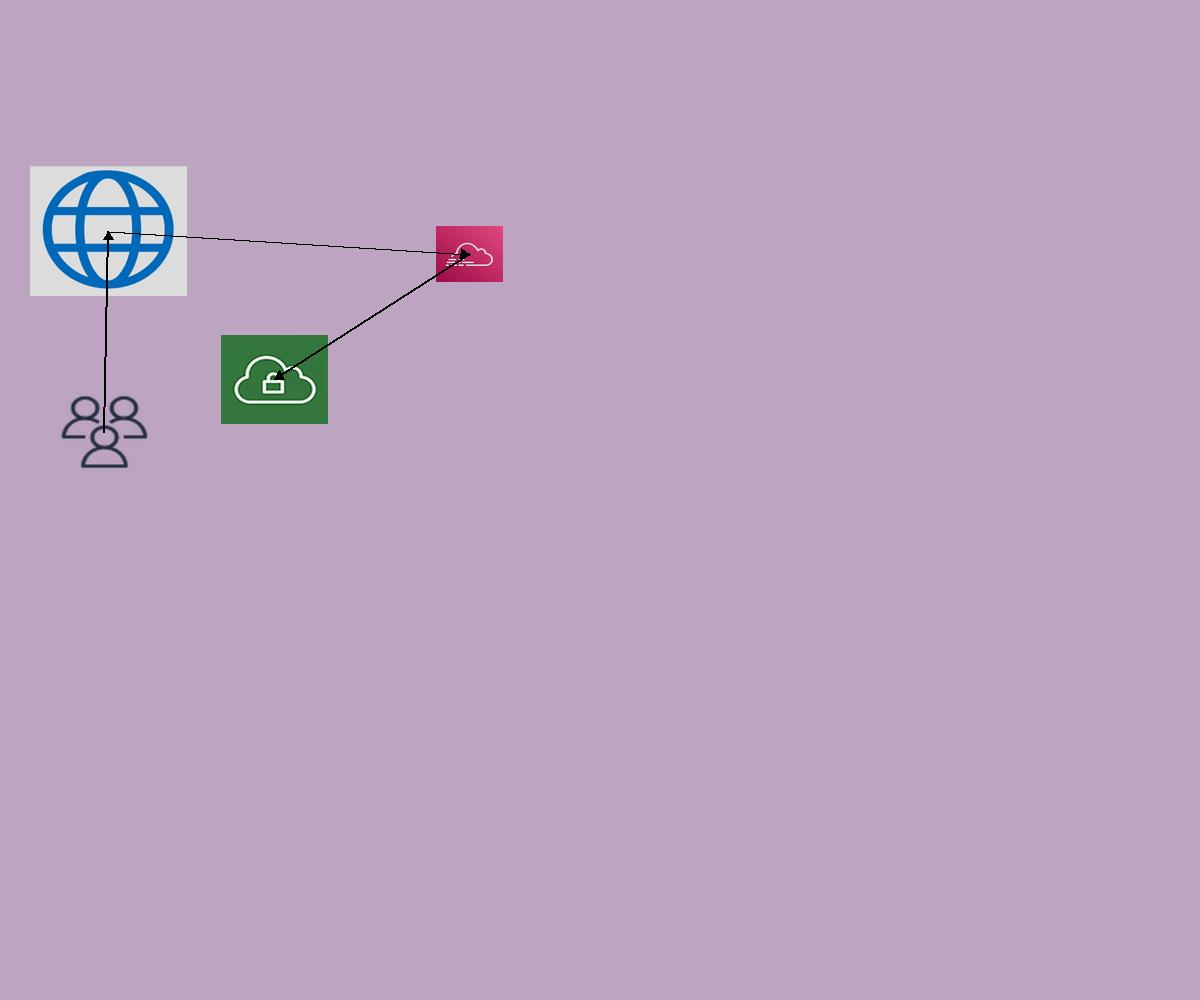AWS-CloudTrail: (436, 226, 503, 282)
AWS-Private_vpc: (221, 335, 328, 424)
AWS-Res_Users: (58, 393, 151, 471)
Azure_http: (30, 166, 187, 296)
